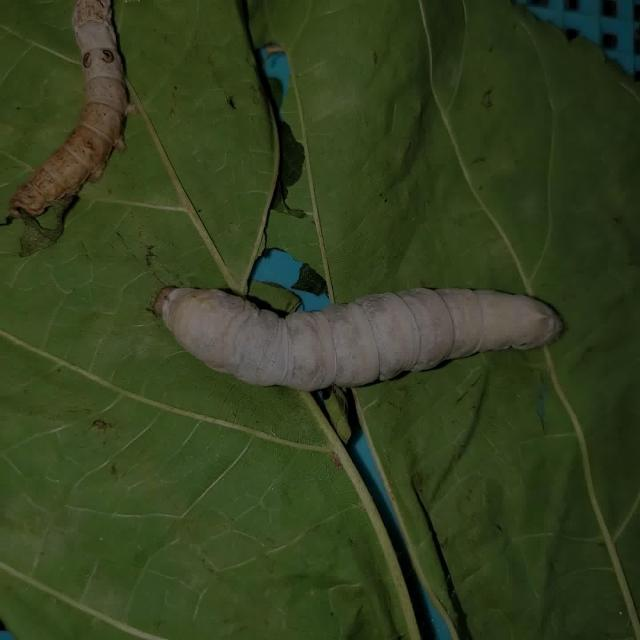Grasserie: (134, 248, 579, 411), (5, 2, 134, 246)
